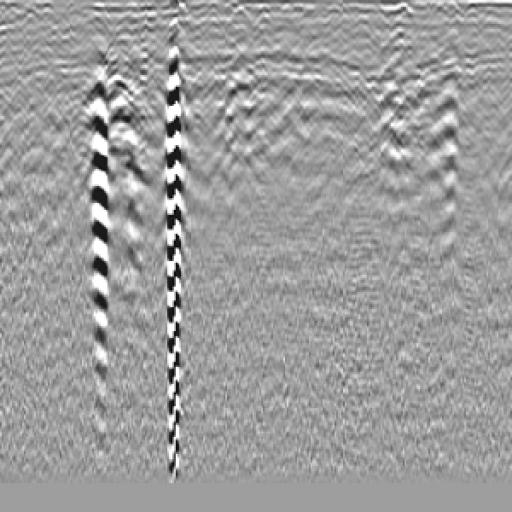metalic: (79, 44, 123, 261)
